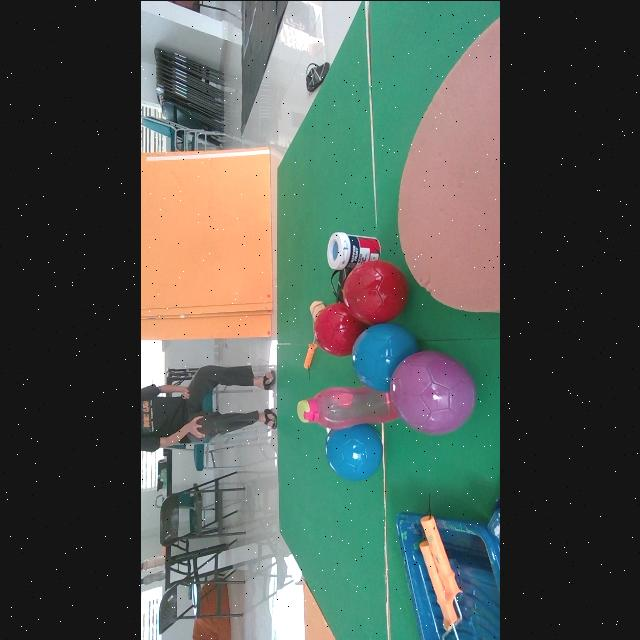B: (351, 323, 417, 391), (324, 423, 382, 480)
P: (389, 350, 475, 434)
R: (342, 259, 407, 323), (313, 301, 368, 356)
